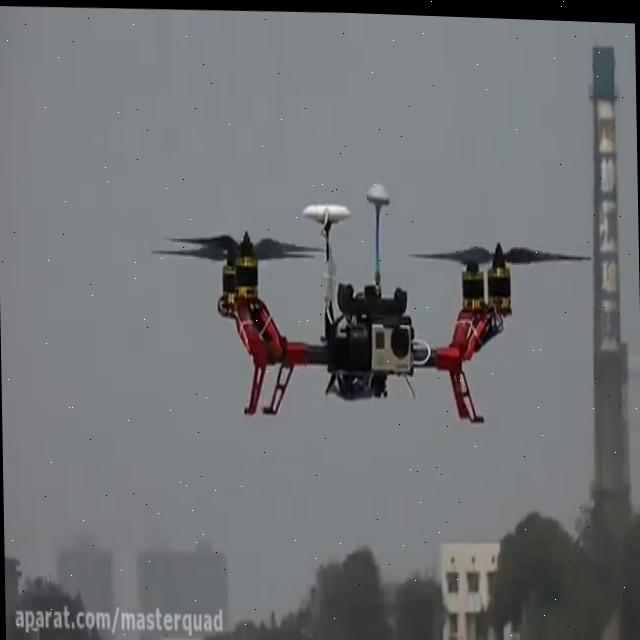drone: (144, 165, 594, 431)
